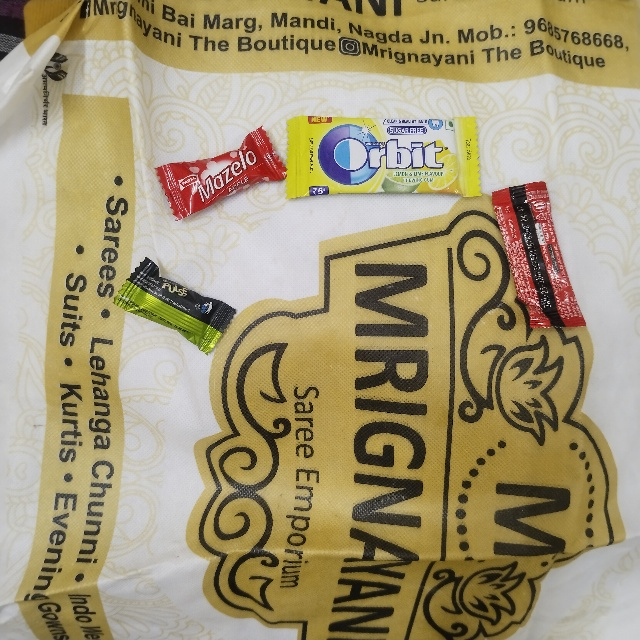Mazelo: (149, 175, 279, 230)
Nescafe Coffee: (486, 193, 547, 340)
Orbit: (286, 117, 487, 196)
Pulse: (139, 251, 256, 304)
